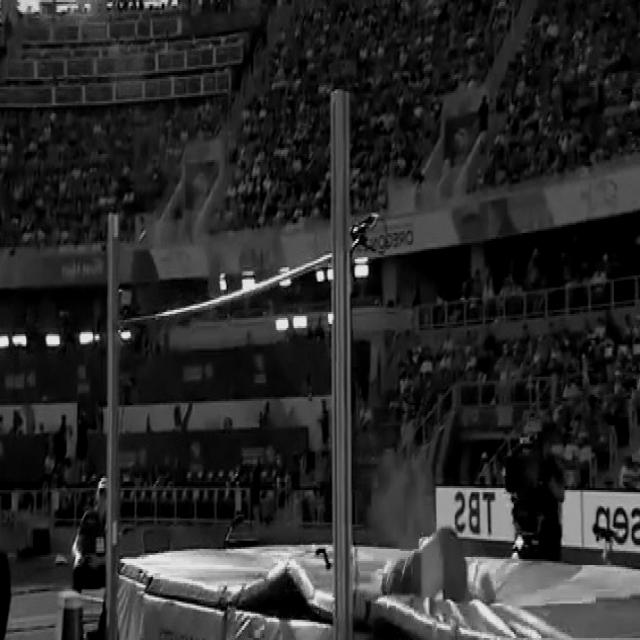land: (378, 510, 498, 606)
